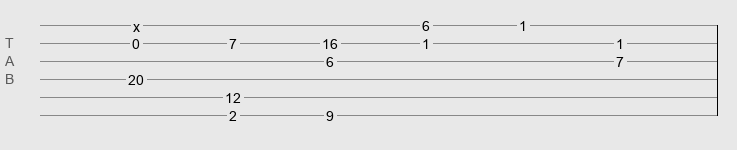0: (132, 36, 140, 46)
1: (422, 36, 430, 46), (519, 18, 527, 28), (616, 36, 624, 46)
12: (225, 90, 241, 100)
16: (322, 36, 338, 46)
2: (229, 108, 237, 118)
20: (128, 72, 144, 82)
6: (326, 54, 334, 64), (422, 18, 430, 28)
7: (229, 36, 237, 46), (616, 54, 624, 64)
9: (326, 108, 334, 118)
x: (133, 19, 140, 27)
